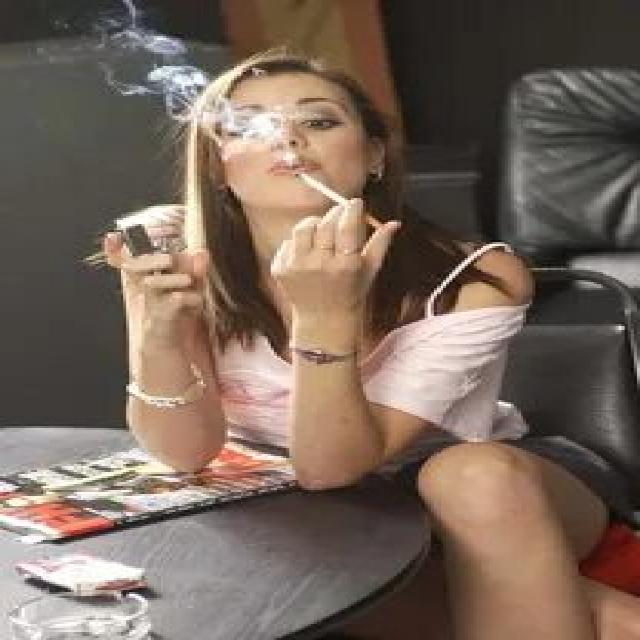cigarette: (295, 168, 391, 234)
